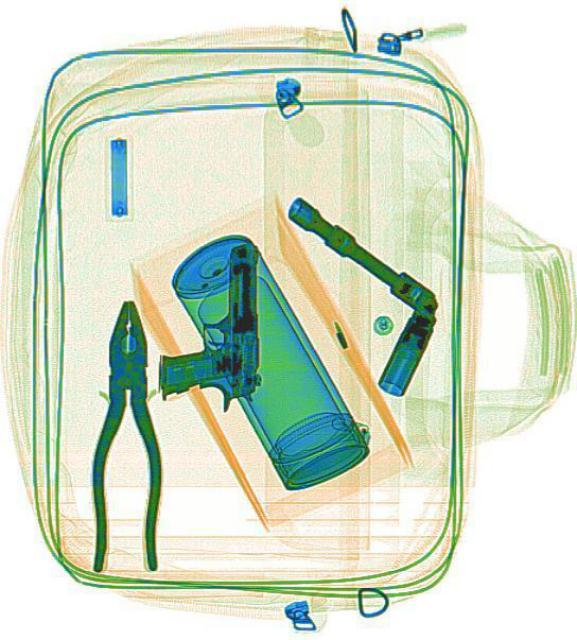Gun: (157, 242, 258, 412)
Pliers: (90, 297, 160, 571)
